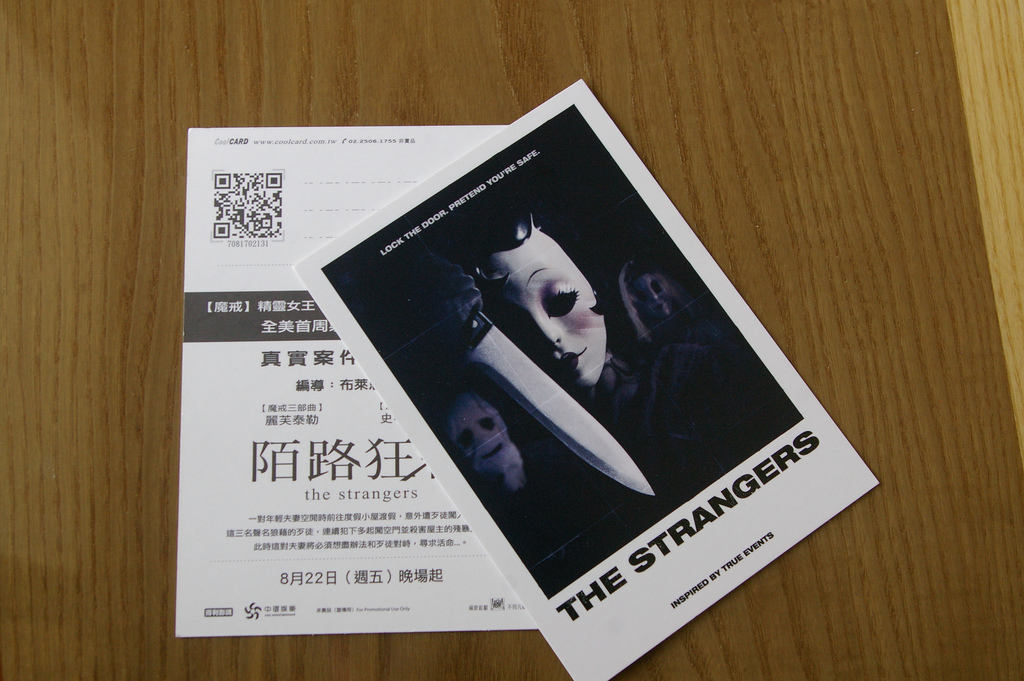QR-CODE: (214, 173, 281, 237)
